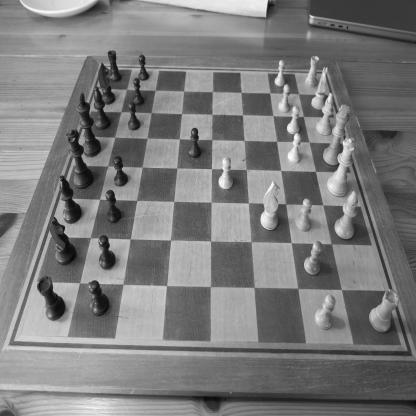black-bishop: (59, 175, 82, 224), (93, 86, 111, 130)
black-king: (65, 128, 94, 190), (77, 93, 101, 157)
black-knight: (50, 216, 76, 265), (98, 62, 116, 105)
black-pawn: (88, 280, 110, 316), (98, 234, 116, 270), (106, 189, 121, 224), (113, 155, 128, 187), (188, 128, 201, 158), (128, 101, 141, 131), (133, 77, 145, 106), (138, 54, 150, 81)
black-rook: (36, 275, 66, 321), (107, 50, 122, 82)
white-bishop: (334, 190, 358, 240), (316, 92, 334, 136)
white-king: (322, 104, 350, 166)
white-knight: (260, 180, 281, 231), (311, 66, 328, 110)
white-pawn: (314, 294, 336, 330), (303, 241, 323, 276), (295, 198, 312, 232), (218, 156, 234, 191), (287, 132, 302, 164), (288, 106, 301, 136), (278, 84, 290, 113), (274, 59, 286, 87)
white-queen: (326, 136, 358, 198)
white-rook: (369, 288, 400, 334), (305, 56, 320, 88)
